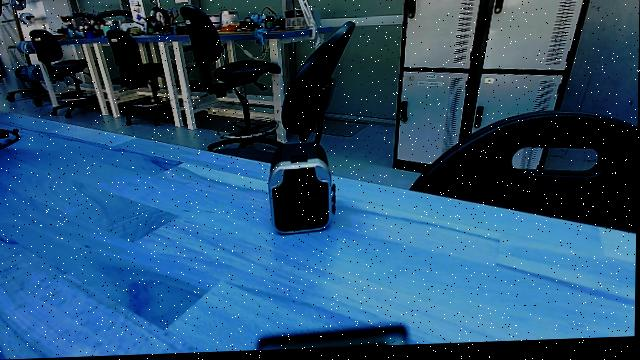adapter: (258, 143, 344, 235)
